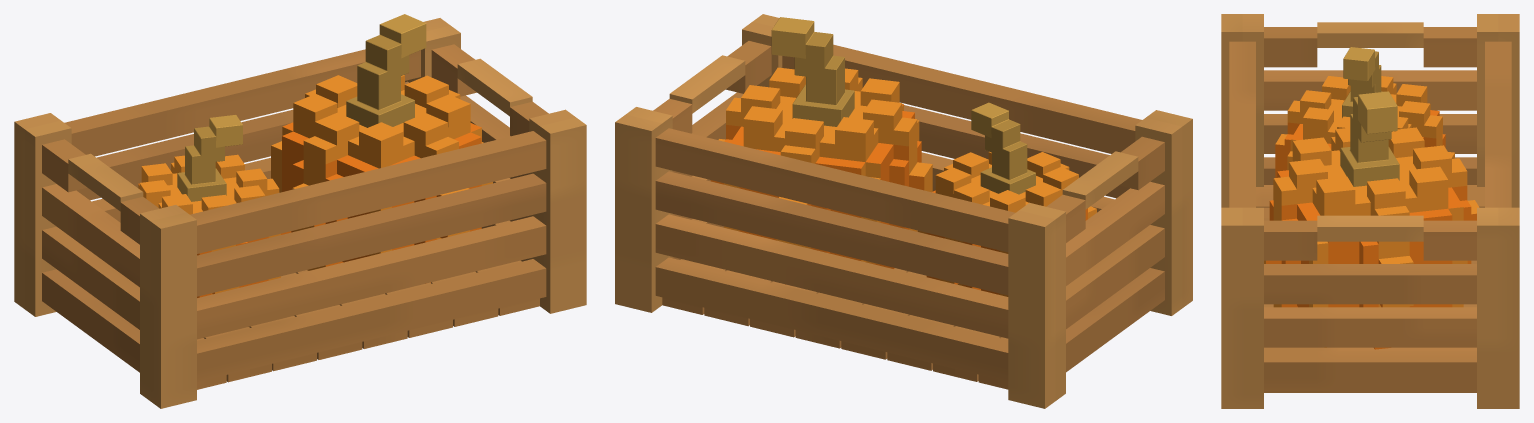
File: SM_VMF_Set_VegetableBasket_Pumpkins.fbx
3 renders of one model, left to right at view 1: azimuth 30°, elevation 25°; view 2: azimuth 150°, elevation 25°; view 3: azimuth 270°, elevation 25°, orthographic.
Parts seen in each view (by area): view 1: Filled_SM_VMF_Prop_VegetableBasket_SlatsAndHandholds, Filled_SM_VMF_Prop_VegetableBasket_CornerPosts, SM_VMF_Set_VegetableBasket_Pumpkins_Pumpkin2_HarvestFruit, SM_VMF_Set_VegetableBasket_Pumpkins_Pumpkin2_HarvestStem, SM_VMF_Set_VegetableBasket_Pumpkins_Pumpkin1_HarvestFruit, Filled_SM_VMF_Prop_VegetableBasket_Floor, SM_VMF_Set_VegetableBasket_Pumpkins_Pumpkin1_HarvestStem; view 2: Filled_SM_VMF_Prop_VegetableBasket_SlatsAndHandholds, Filled_SM_VMF_Prop_VegetableBasket_CornerPosts, SM_VMF_Set_VegetableBasket_Pumpkins_Pumpkin2_HarvestFruit, SM_VMF_Set_VegetableBasket_Pumpkins_Pumpkin2_HarvestStem, SM_VMF_Set_VegetableBasket_Pumpkins_Pumpkin1_HarvestFruit, Filled_SM_VMF_Prop_VegetableBasket_Floor, SM_VMF_Set_VegetableBasket_Pumpkins_Pumpkin1_HarvestStem; view 3: Filled_SM_VMF_Prop_VegetableBasket_SlatsAndHandholds, Filled_SM_VMF_Prop_VegetableBasket_CornerPosts, SM_VMF_Set_VegetableBasket_Pumpkins_Pumpkin2_HarvestFruit, SM_VMF_Set_VegetableBasket_Pumpkins_Pumpkin1_HarvestFruit, SM_VMF_Set_VegetableBasket_Pumpkins_Pumpkin2_HarvestStem, Filled_SM_VMF_Prop_VegetableBasket_Floor, SM_VMF_Set_VegetableBasket_Pumpkins_Pumpkin1_HarvestStem.
Part boxes in pixels (box(x1,y1,x2,y2)): Filled_SM_VMF_Prop_VegetableBasket_SlatsAndHandholds: box(42, 44, 548, 381); Filled_SM_VMF_Prop_VegetableBasket_CornerPosts: box(14, 18, 586, 408); SM_VMF_Set_VegetableBasket_Pumpkins_Pumpkin2_HarvestFruit: box(271, 75, 492, 283); SM_VMF_Set_VegetableBasket_Pumpkins_Pumpkin2_HarvestStem: box(346, 14, 426, 127); SM_VMF_Set_VegetableBasket_Pumpkins_Pumpkin1_HarvestFruit: box(138, 154, 291, 297); Filled_SM_VMF_Prop_VegetableBasket_Floor: box(197, 260, 539, 389); SM_VMF_Set_VegetableBasket_Pumpkins_Pumpkin1_HarvestStem: box(177, 115, 242, 201); Filled_SM_VMF_Prop_VegetableBasket_SlatsAndHandholds: box(653, 41, 1164, 381); Filled_SM_VMF_Prop_VegetableBasket_CornerPosts: box(615, 14, 1192, 408); SM_VMF_Set_VegetableBasket_Pumpkins_Pumpkin2_HarvestFruit: box(710, 67, 932, 284); SM_VMF_Set_VegetableBasket_Pumpkins_Pumpkin2_HarvestStem: box(771, 17, 854, 126); SM_VMF_Set_VegetableBasket_Pumpkins_Pumpkin1_HarvestFruit: box(917, 152, 1096, 296); Filled_SM_VMF_Prop_VegetableBasket_Floor: box(662, 230, 1008, 389); SM_VMF_Set_VegetableBasket_Pumpkins_Pumpkin1_HarvestStem: box(971, 102, 1035, 194); Filled_SM_VMF_Prop_VegetableBasket_SlatsAndHandholds: box(1229, 22, 1511, 390); Filled_SM_VMF_Prop_VegetableBasket_CornerPosts: box(1221, 14, 1519, 408); SM_VMF_Set_VegetableBasket_Pumpkins_Pumpkin2_HarvestFruit: box(1264, 127, 1479, 349); SM_VMF_Set_VegetableBasket_Pumpkins_Pumpkin1_HarvestFruit: box(1275, 76, 1454, 177); SM_VMF_Set_VegetableBasket_Pumpkins_Pumpkin2_HarvestStem: box(1340, 91, 1399, 186); Filled_SM_VMF_Prop_VegetableBasket_Floor: box(1256, 185, 1484, 392); SM_VMF_Set_VegetableBasket_Pumpkins_Pumpkin1_HarvestStem: box(1342, 47, 1383, 117).
Bounding box in the file's own units: 94 × 53 × 56.
Materials: 1 (1 with a texture image).
